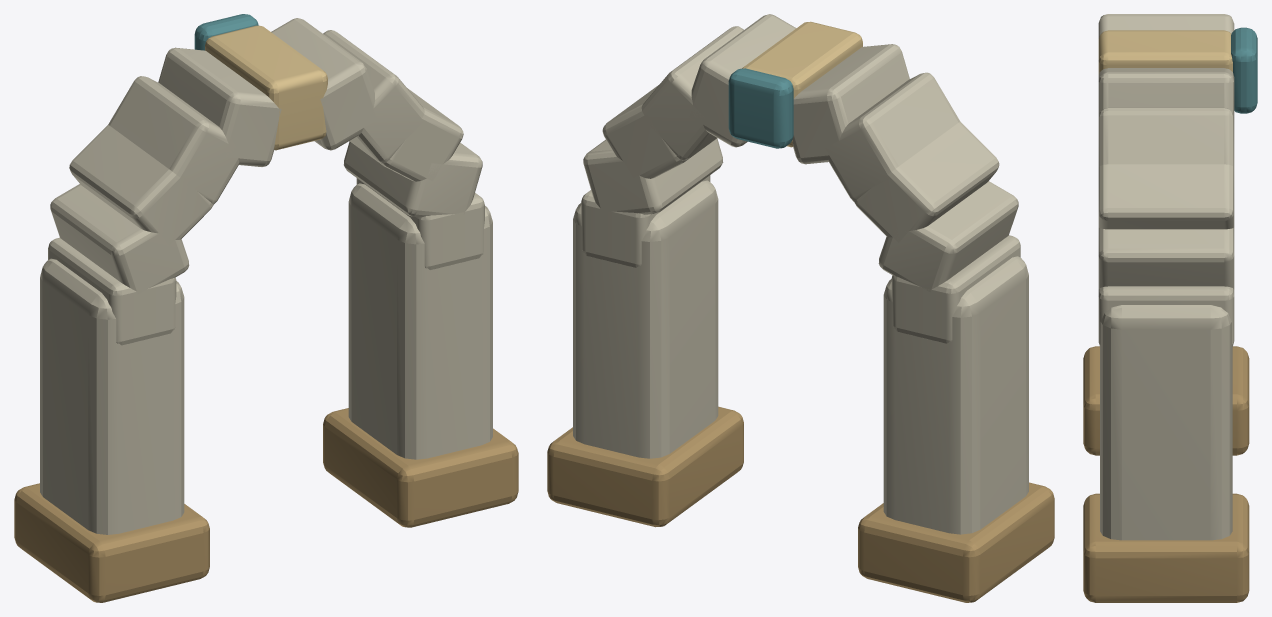
The model's file is arch.glb.
The picture shows the model from 3 angles, left to right: view 1: azimuth 30°, elevation 25°; view 2: azimuth 150°, elevation 25°; view 3: azimuth 270°, elevation 25°; orthographic projection. The views are drawn at different scales.
Visible parts, largest first — view 1: Surface_FoundryStone, Surface_Brass, Surface_PolishedRim, Surface_Enamel; view 2: Surface_FoundryStone, Surface_Brass, Surface_Enamel, Surface_PolishedRim; view 3: Surface_FoundryStone, Surface_Brass, Surface_PolishedRim, Surface_Enamel.
Boxes of the visible parts, <box> form: Surface_FoundryStone: <box>40,18,492,534</box>; Surface_Brass: <box>14,408,518,602</box>; Surface_PolishedRim: <box>205,25,327,150</box>; Surface_Enamel: <box>194,14,258,50</box>; Surface_FoundryStone: <box>573,14,1028,534</box>; Surface_Brass: <box>547,406,1054,602</box>; Surface_Enamel: <box>728,68,793,148</box>; Surface_PolishedRim: <box>742,21,862,147</box>; Surface_FoundryStone: <box>1098,14,1234,540</box>; Surface_Brass: <box>1083,346,1249,602</box>; Surface_PolishedRim: <box>1098,30,1232,74</box>; Surface_Enamel: <box>1231,27,1257,113</box>.
Bounding box in the file's own units: 1.75 × 1.86 × 0.63.
